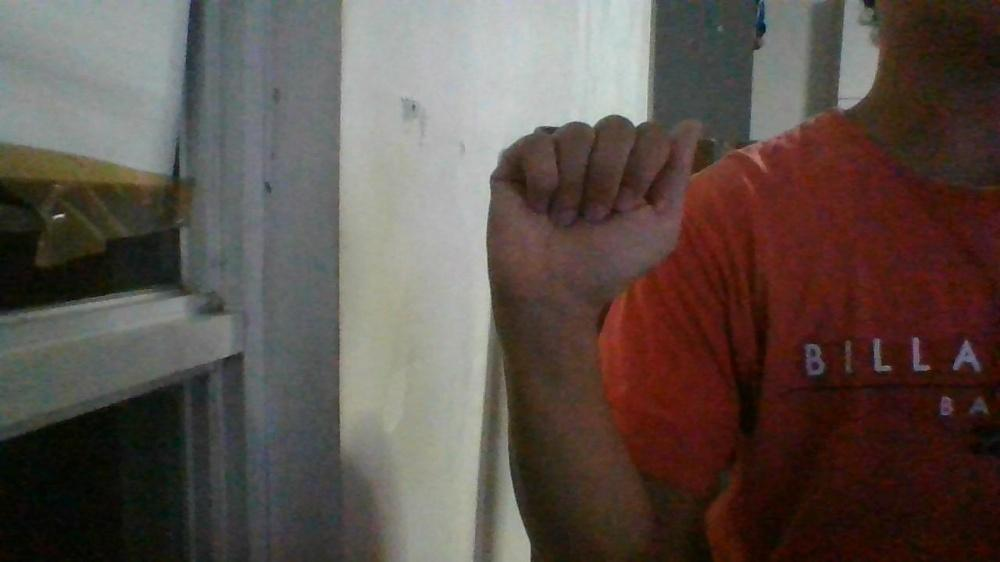a: (484, 113, 705, 306)
